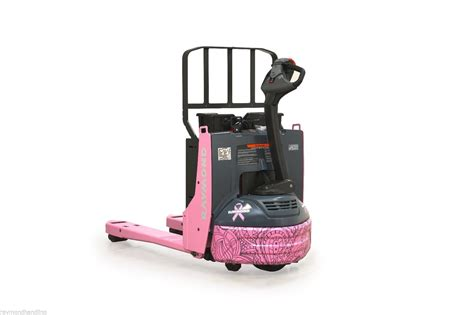Pallet Jack: (103, 46, 313, 274)
